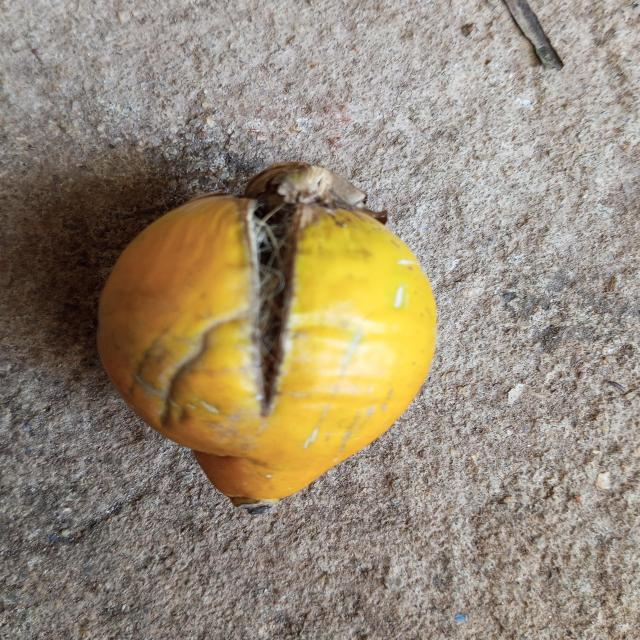damaged: (96, 163, 438, 509)
